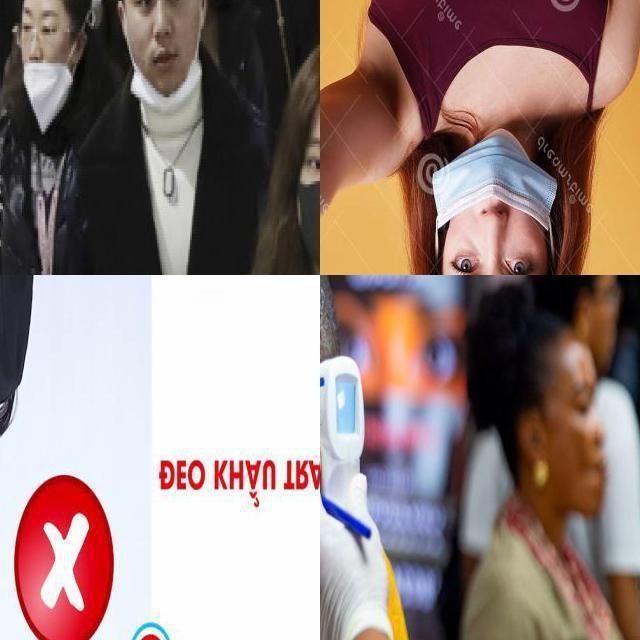hairnet: (432, 137, 561, 233), (133, 18, 205, 107), (21, 37, 79, 92)
